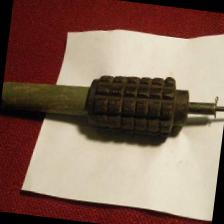POMZ2: (0, 65, 224, 145)
